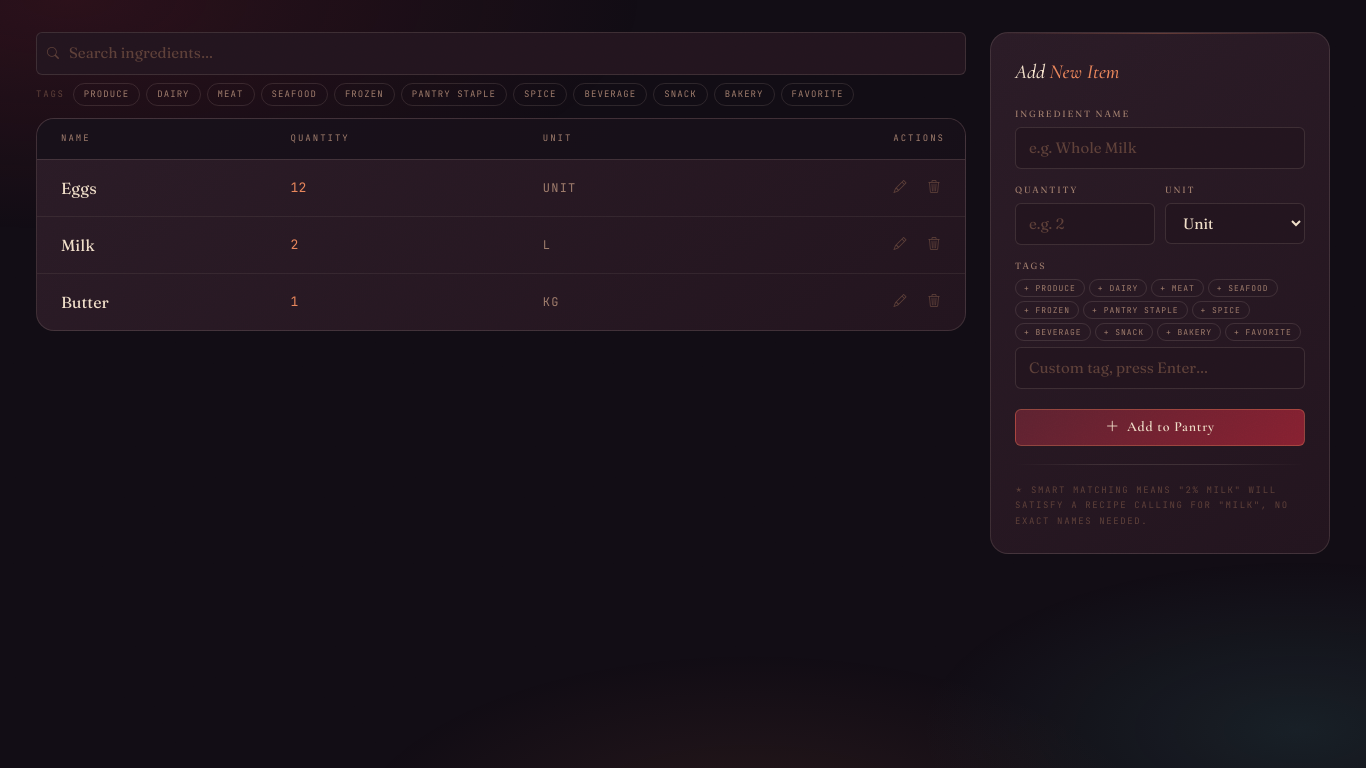
Test: edit item › clicking Edit shows pre-filled input with item name
The width and height of the screenshot is (1366, 768).
Step 1. Click the button titled "Edit" in the row of "Eggs" → (900, 188), box 885,172 -> 915,202
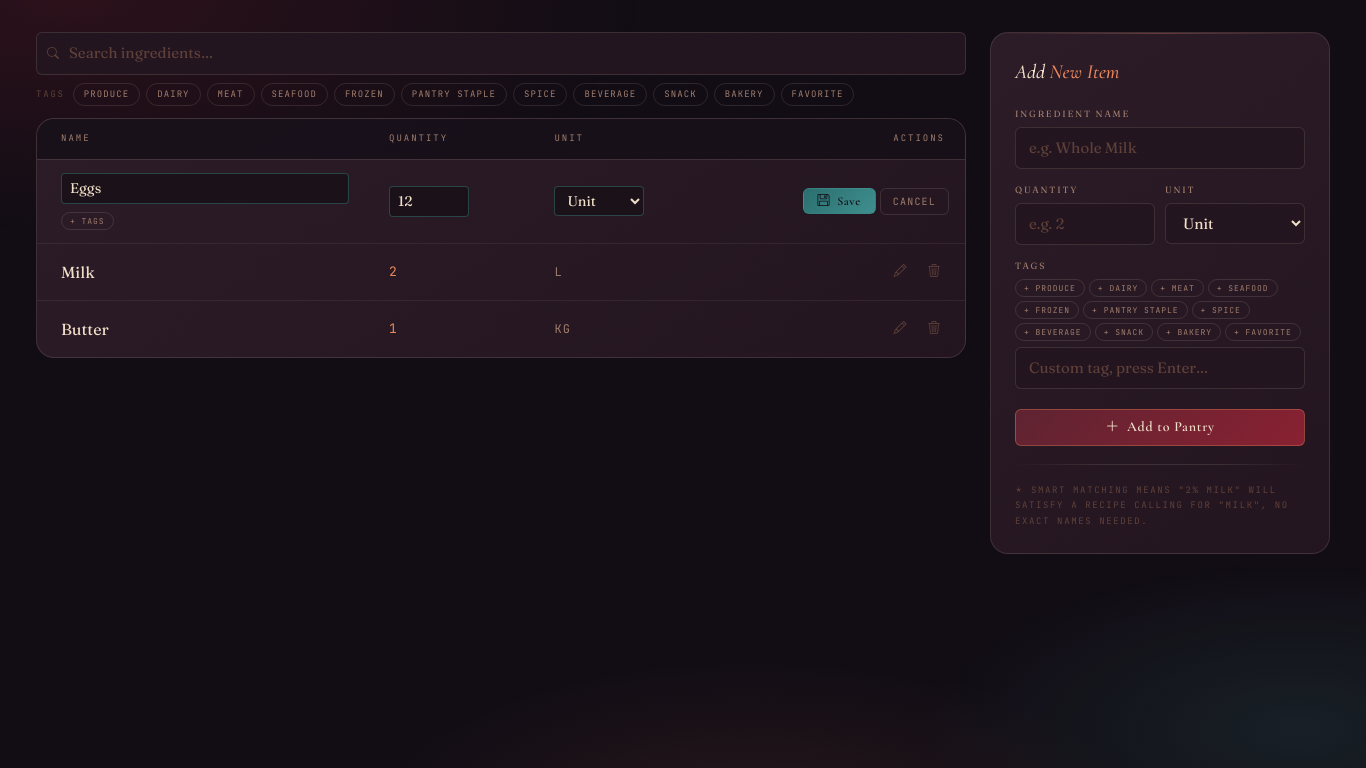
Now the field showing "Eggs" is shown, box 61,172 -> 349,204
